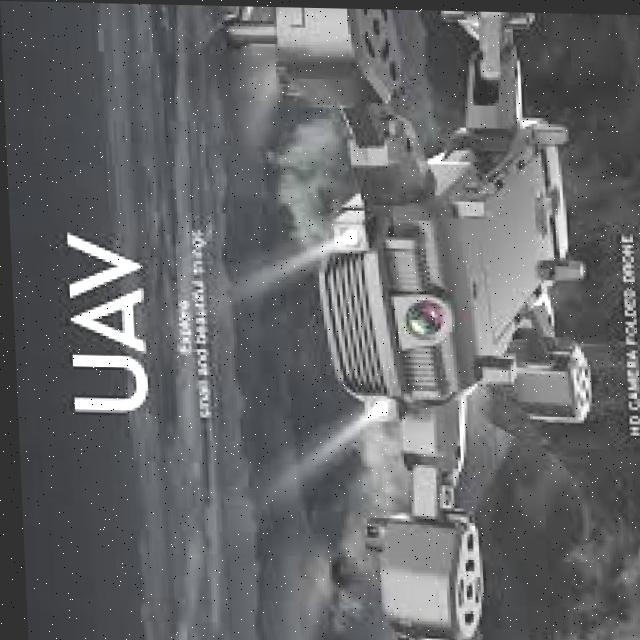drone: (224, 4, 613, 640)
